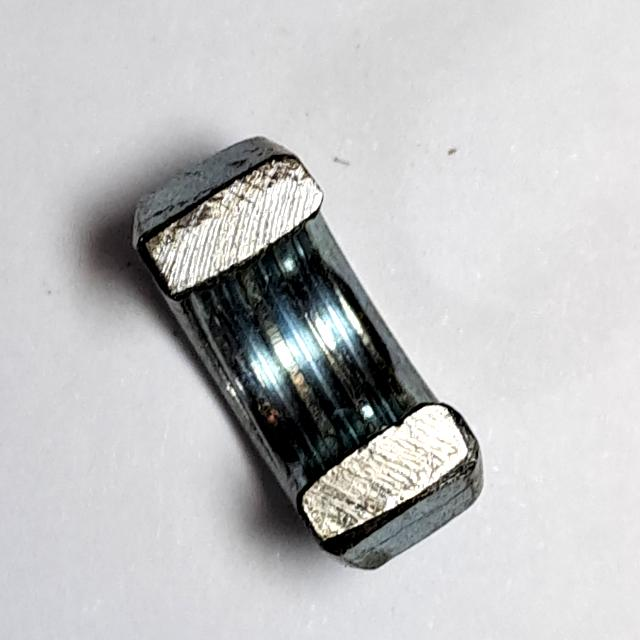Side-Fracture: (121, 126, 499, 589)
